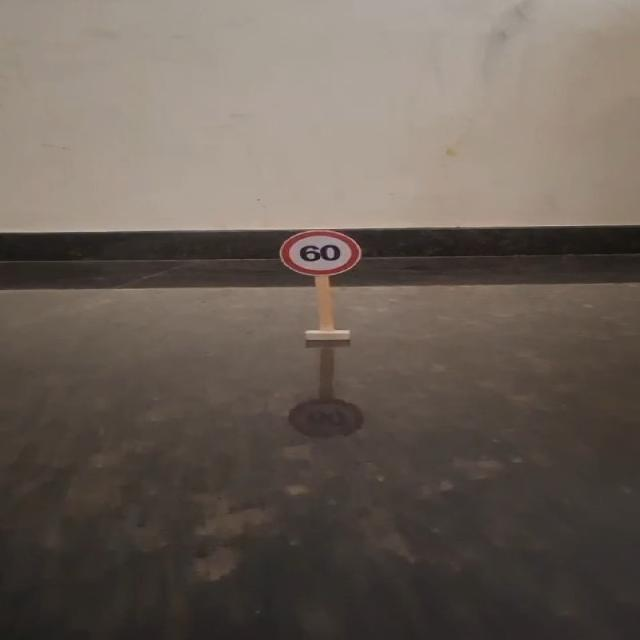Speed60: (277, 226, 365, 278)
